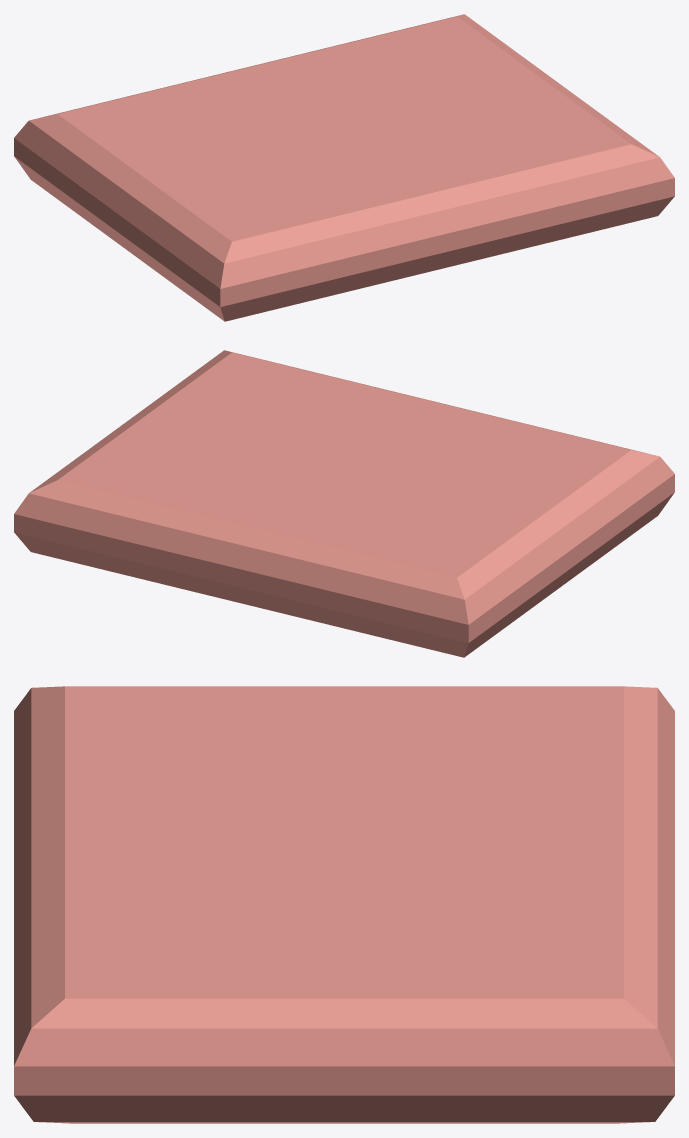
File: pillow.001.gltf
The picture shows the model from 3 angles, top to bottom: view 1: azimuth 30°, elevation 25°; view 2: azimuth 150°, elevation 25°; view 3: azimuth 270°, elevation 25°; orthographic projection. The views are drawn at different scales.
Visible parts, largest first — view 1: pillow.001; view 2: pillow.001; view 3: pillow.001.
Part boxes in pixels (box(x1,y1,x2,y2)): pillow.001: box(14, 14, 674, 321); pillow.001: box(14, 350, 674, 657); pillow.001: box(14, 686, 674, 1123).
Bounding box in the file's own units: 0.87 × 0.1461 × 0.684.
